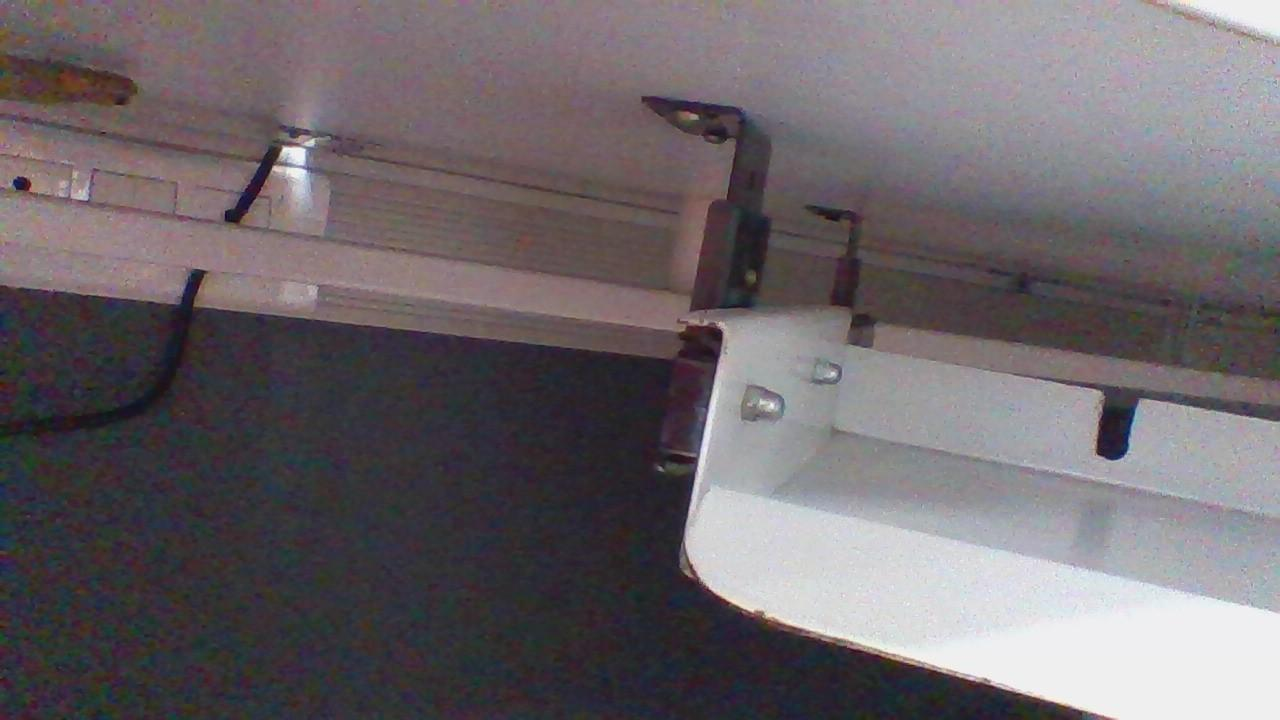lizard: (0, 32, 152, 133)
